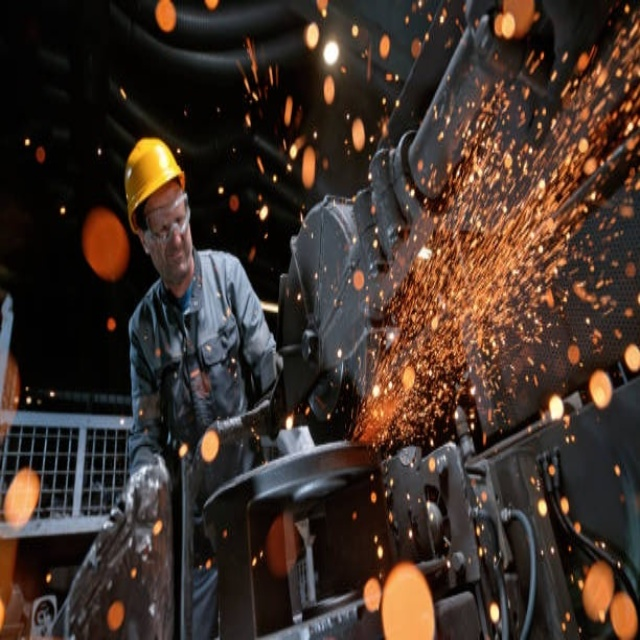Gafas: (142, 198, 191, 246)
Sin_mascara: (163, 246, 188, 275)
